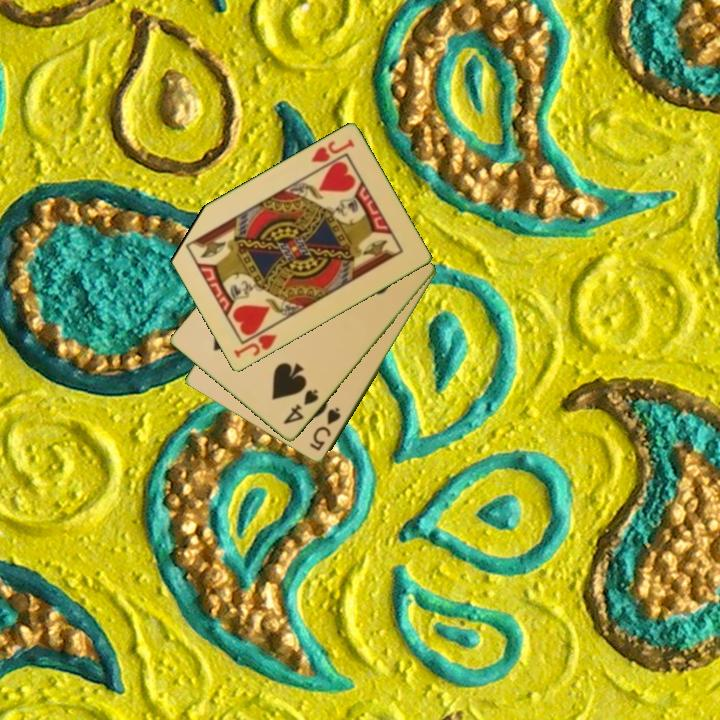4s: (280, 386, 322, 428)
5s: (306, 404, 344, 454)
Jh: (230, 321, 280, 361), (307, 136, 357, 166)
